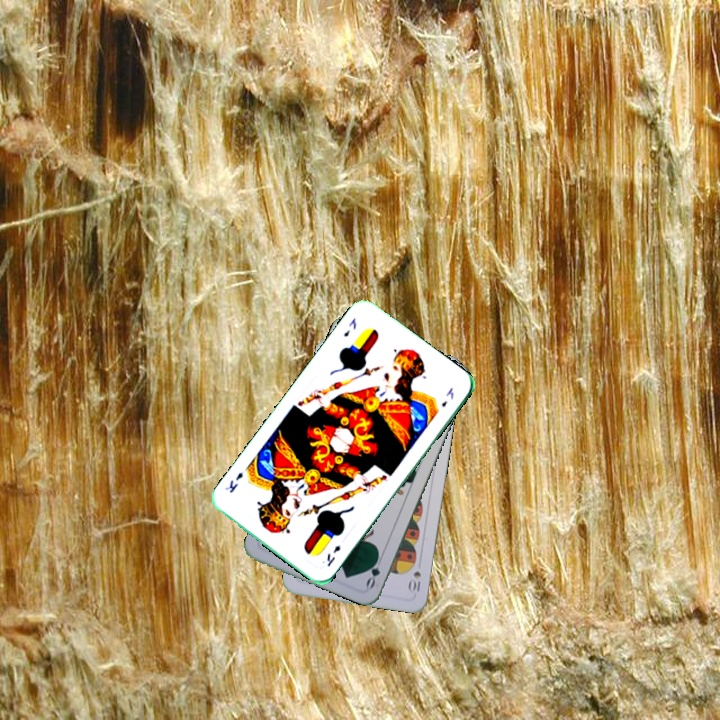EK: (323, 541, 343, 569), (339, 314, 359, 339)
GO: (362, 550, 385, 591)
S10: (406, 567, 423, 594)
